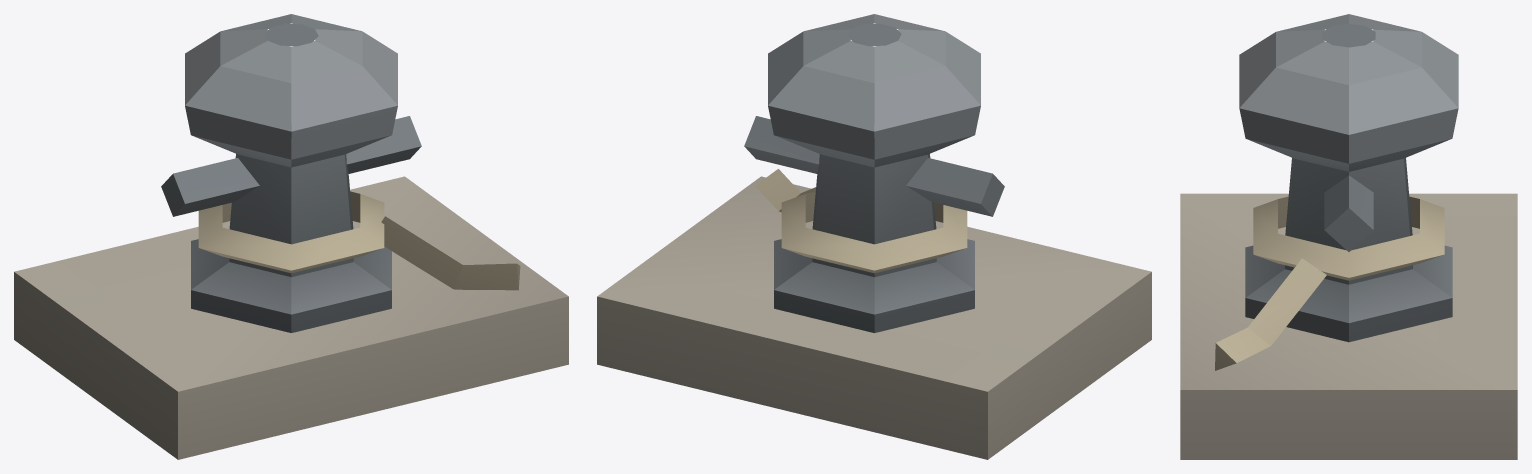
The model's file is bollard.lod1.glb.
3 views of the same model, side by side, from view 1: azimuth 30°, elevation 25°; view 2: azimuth 150°, elevation 25°; view 3: azimuth 270°, elevation 25° (orthographic). The views are drawn at different scales.
Size of the model in its own units: 0.66 by 0.512 by 0.48.
